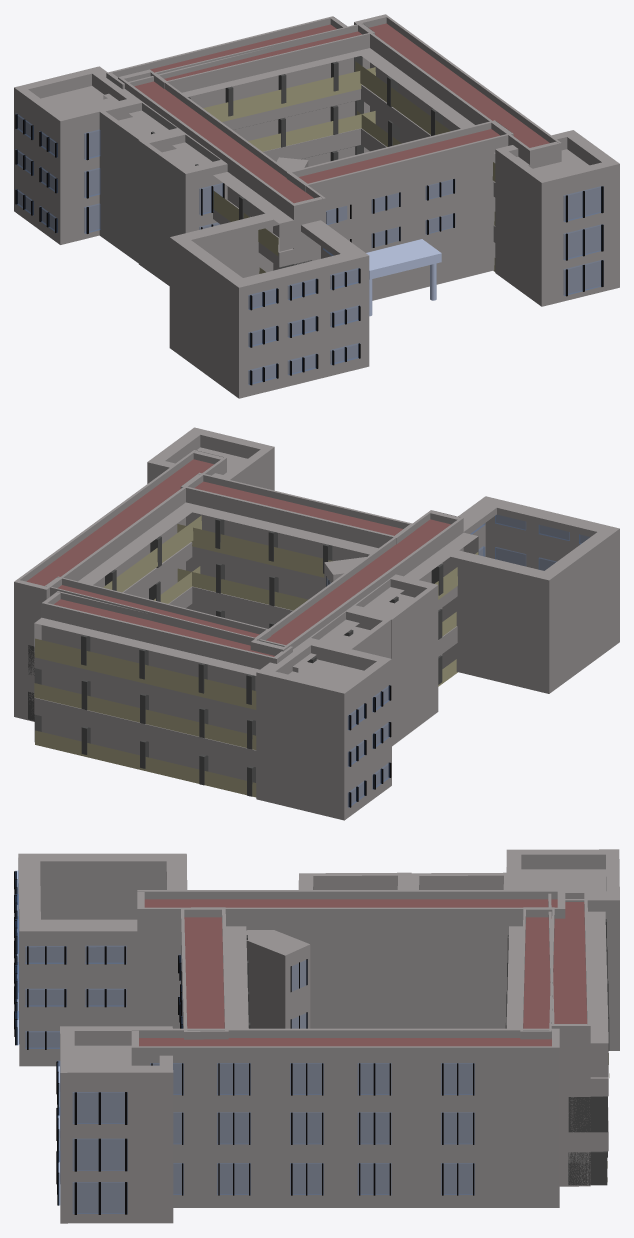
The model's file is silver.glb.
3 renders of one model, top to bottom at view 1: azimuth 30°, elevation 25°; view 2: azimuth 150°, elevation 25°; view 3: azimuth 270°, elevation 25°, orthographic. The views are drawn at different scales.
Parts seen in each view (by area): view 1: Cube.005, Cube.008, Cube.046, Cube.014, Cube.013, Cube.021, Cube.201, Cube.020, Cube.019, Cube.012, Cube; view 2: Cube.012, Cube.005, Cube.008, Cube.021, Cube.013, Cube.201, Cube.020, Cube.046, Cube.014, Cube.019, Cube.009; view 3: Cube.013, Cube.201, Cube.005, Cube.046, Cube.012, Cube.008, Cube.021, Cube.009, Cube.014, Cube.019, Cube.020, Cube.030 (+16 smaller).
Boxes of the visible parts, x1,y1,x2,y2 form: Cube.005: [169, 213, 369, 398]; Cube.008: [286, 120, 513, 300]; Cube.046: [495, 130, 619, 306]; Cube.014: [151, 23, 375, 166]; Cube.013: [354, 14, 561, 271]; Cube.021: [14, 66, 137, 244]; Cube.201: [103, 69, 325, 273]; Cube.020: [138, 130, 227, 285]; Cube.019: [99, 98, 180, 262]; Cube.012: [106, 16, 347, 89]; Cube: [366, 239, 441, 279]; Cube.012: [34, 591, 292, 797]; Cube.005: [442, 496, 619, 693]; Cube.008: [177, 472, 415, 628]; Cube.021: [256, 639, 391, 820]; Cube.013: [14, 450, 228, 721]; Cube.201: [250, 510, 478, 686]; Cube.020: [349, 574, 438, 746]; Cube.046: [147, 427, 274, 490]; Cube.014: [45, 576, 271, 645]; Cube.019: [304, 607, 393, 658]; Cube.009: [324, 557, 366, 587]; Cube.013: [131, 1028, 559, 1207]; Cube.201: [137, 890, 565, 1028]; Cube.005: [18, 853, 187, 1066]; Cube.046: [56, 1026, 173, 1223]; Cube.012: [548, 890, 609, 1186]; Cube.008: [181, 907, 250, 1039]; Cube.021: [506, 849, 619, 1050]; Cube.009: [246, 930, 310, 1028]; Cube.014: [505, 907, 554, 1039]; Cube.019: [404, 872, 517, 889]; Cube.020: [298, 872, 411, 889]; Cube.030: [358, 1063, 391, 1095].
Size of the model in its own units: 30.51 by 9.83 by 32.92.
